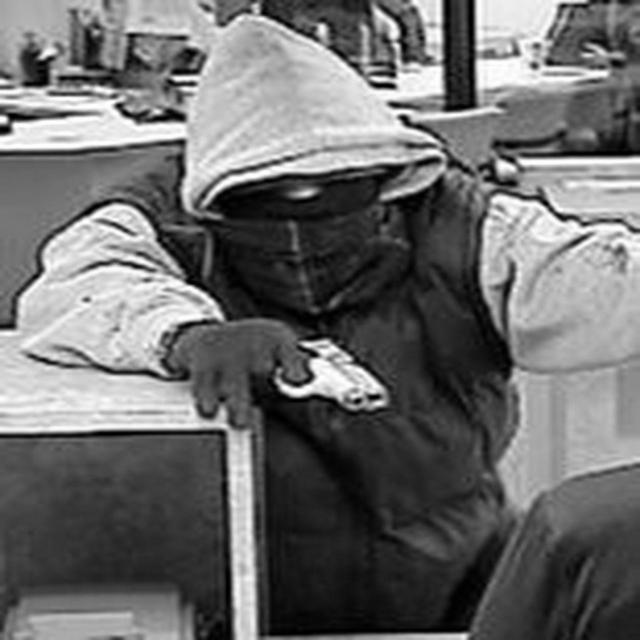gun: (235, 340, 388, 411)
